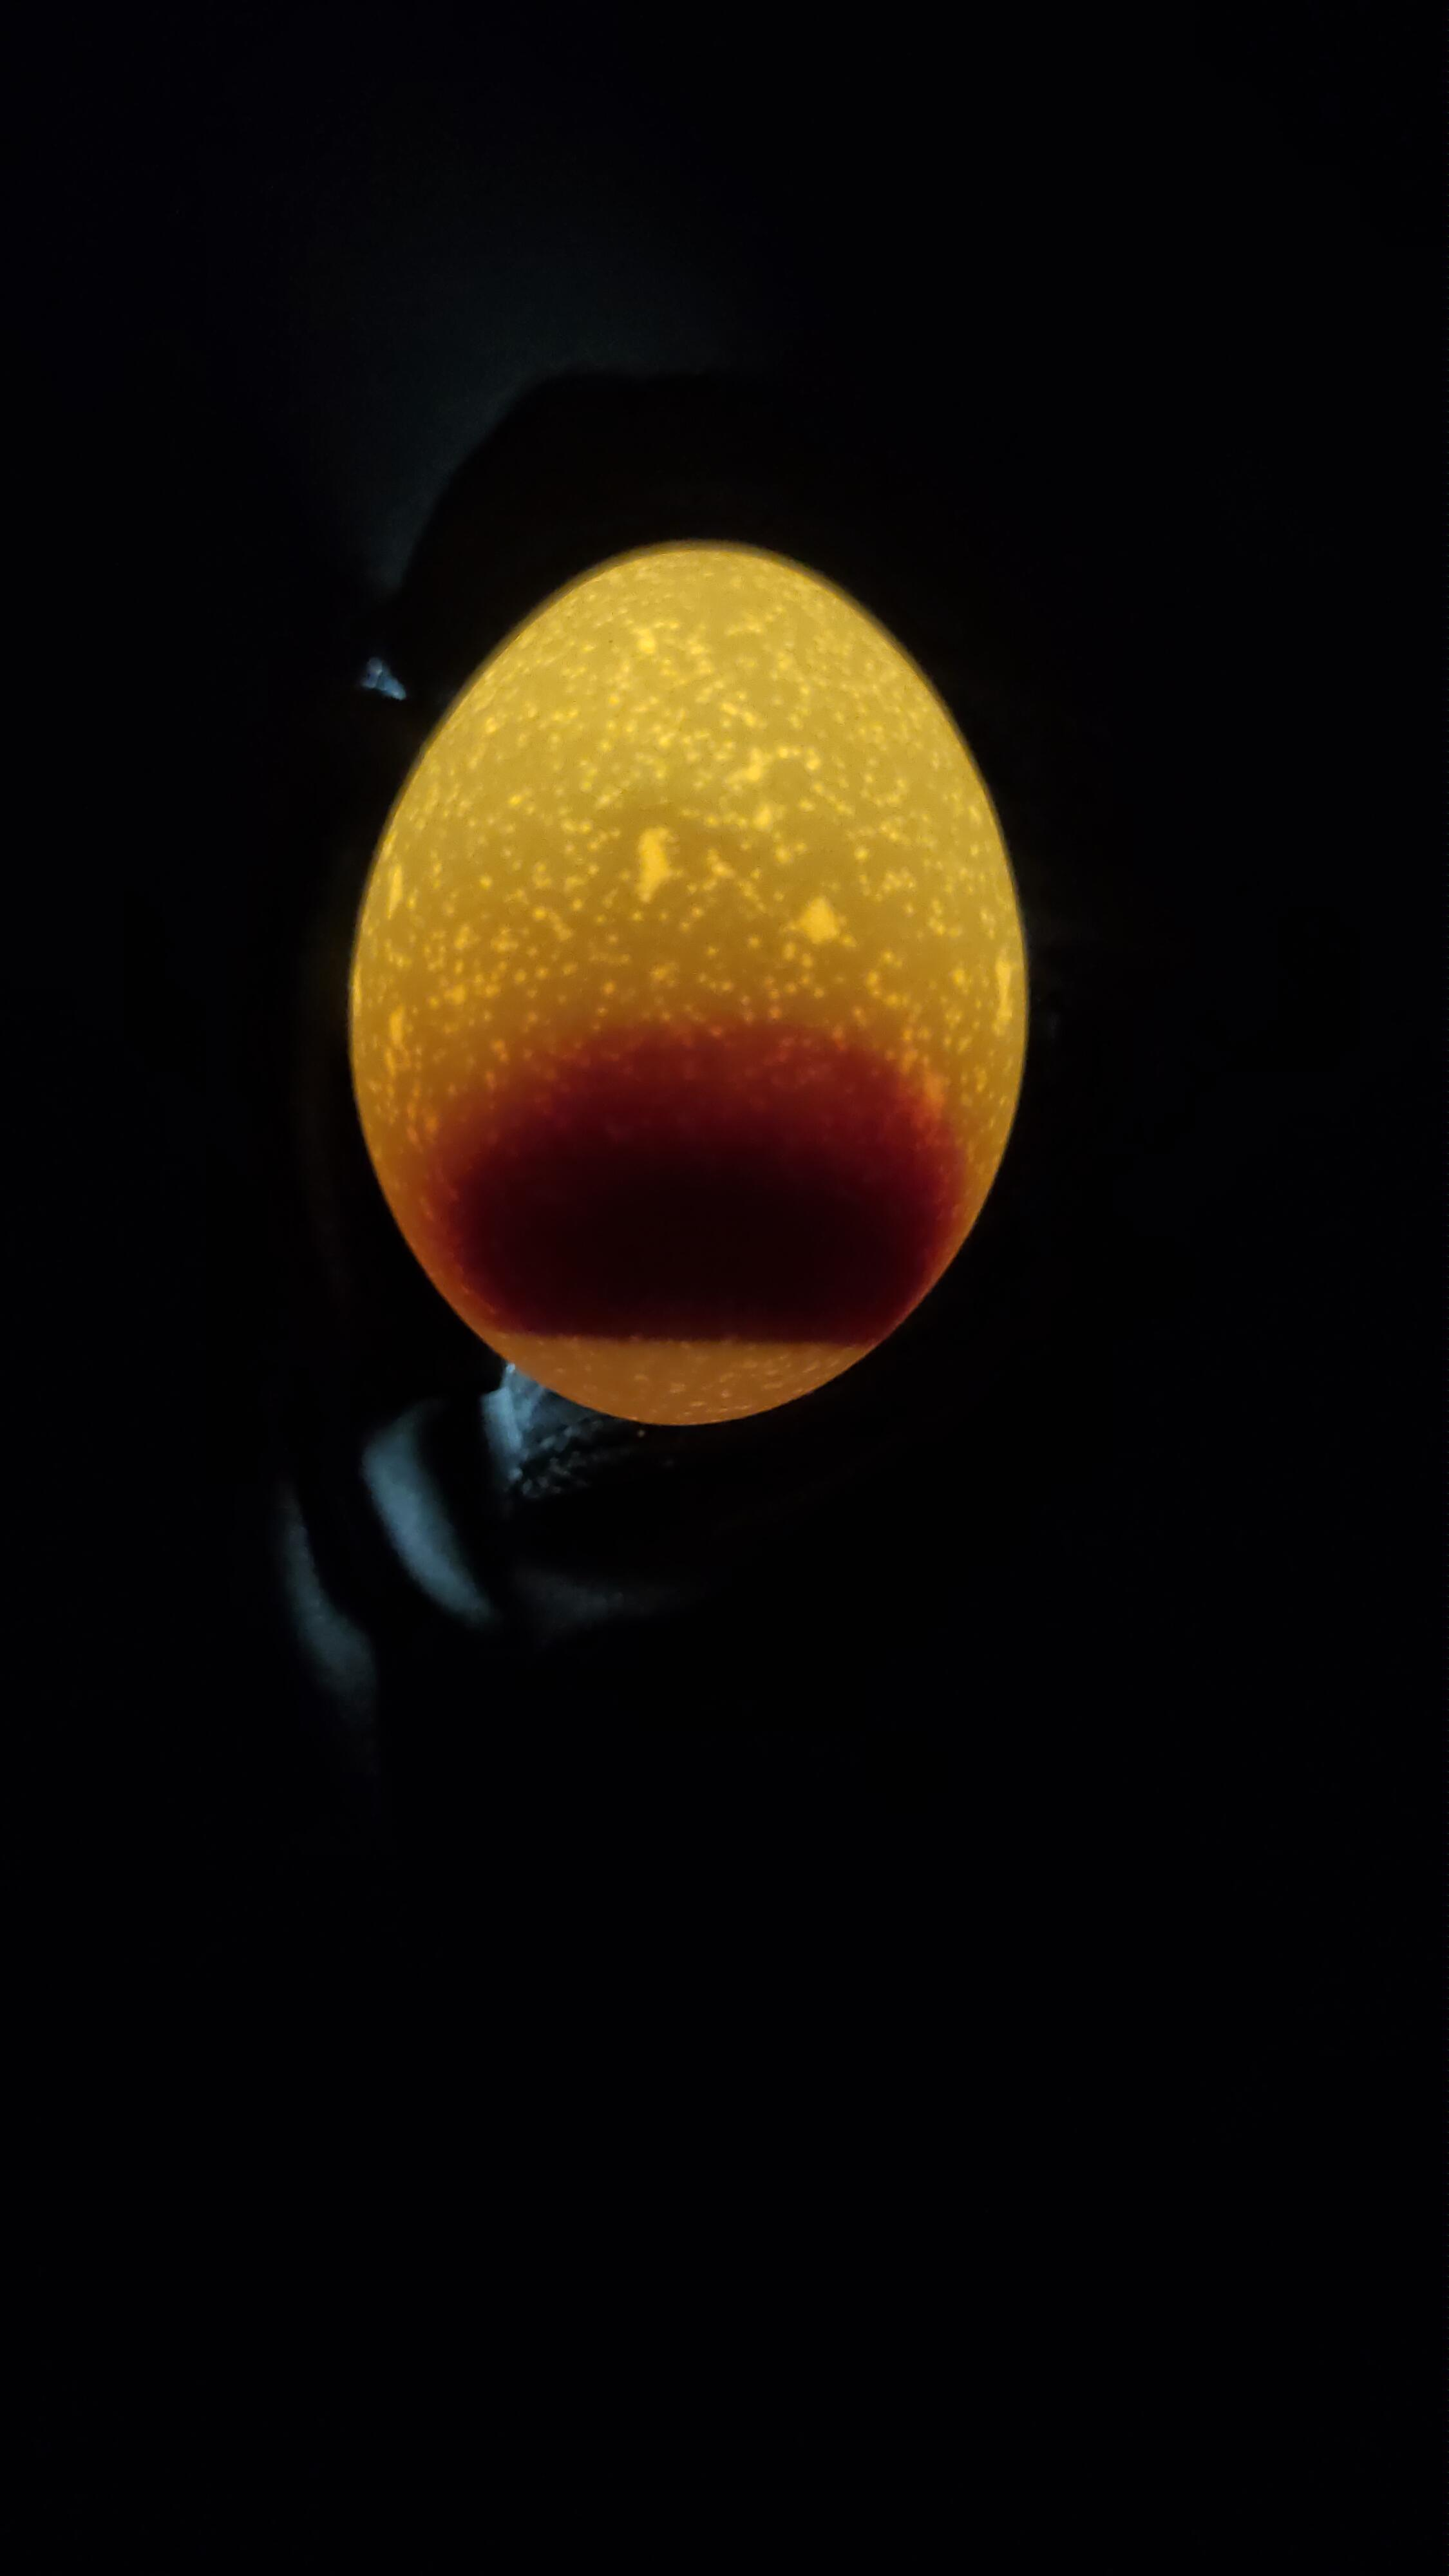AA - Premium: (329, 518, 1056, 1445)
